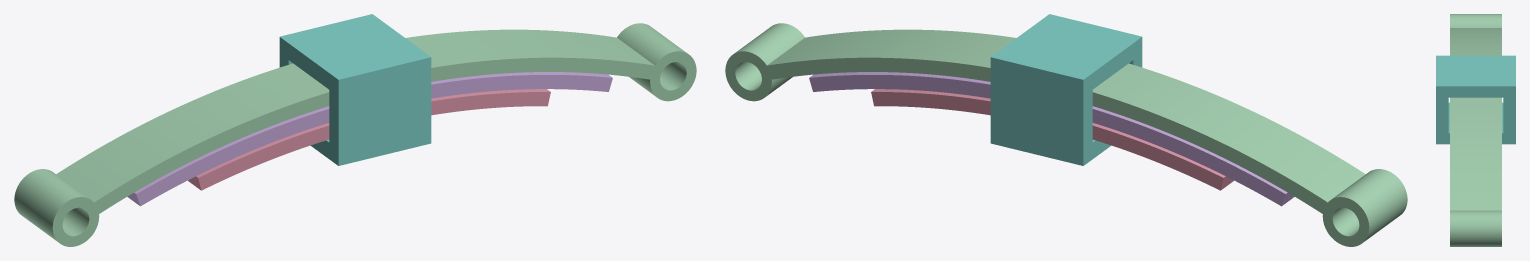
File: leaf_spring_demo.glb
The picture shows the model from 3 angles, left to right: view 1: azimuth 30°, elevation 25°; view 2: azimuth 150°, elevation 25°; view 3: azimuth 270°, elevation 25°; orthographic projection. The views are drawn at different scales.
Parts seen in each view (by area): view 1: leaf_1, leaf_clamp, leaf_2, leaf_3; view 2: leaf_1, leaf_clamp, leaf_2, leaf_3; view 3: leaf_1, leaf_clamp.
Boxes of the visible parts, x1=… form: leaf_1: x1=14, y1=23, x2=696, y2=246; leaf_clamp: x1=279, y1=14, x2=431, y2=165; leaf_2: x1=127, y1=72, x2=612, y2=206; leaf_3: x1=188, y1=89, x2=550, y2=190; leaf_1: x1=725, y1=23, x2=1407, y2=246; leaf_clamp: x1=990, y1=14, x2=1142, y2=165; leaf_2: x1=809, y1=72, x2=1294, y2=206; leaf_3: x1=871, y1=89, x2=1233, y2=190; leaf_1: x1=1450, y1=14, x2=1501, y2=246; leaf_clamp: x1=1436, y1=55, x2=1515, y2=144.
Size of the model in its own units: 97 by 16.2 by 15.4.
